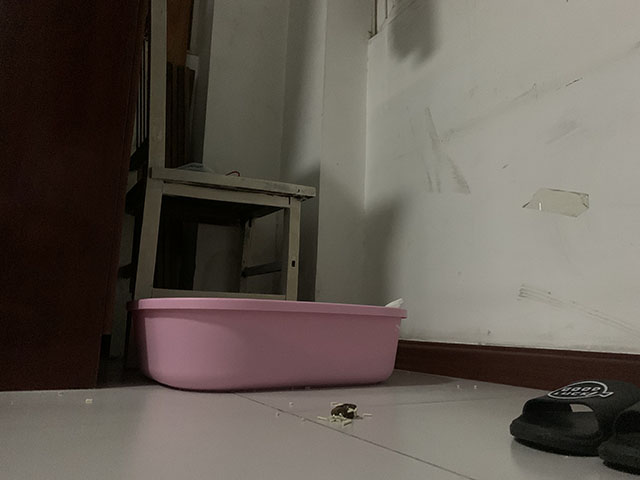cabinet: (1, 1, 150, 392)
slippers: (509, 377, 640, 477)
stool: (115, 1, 317, 303)
